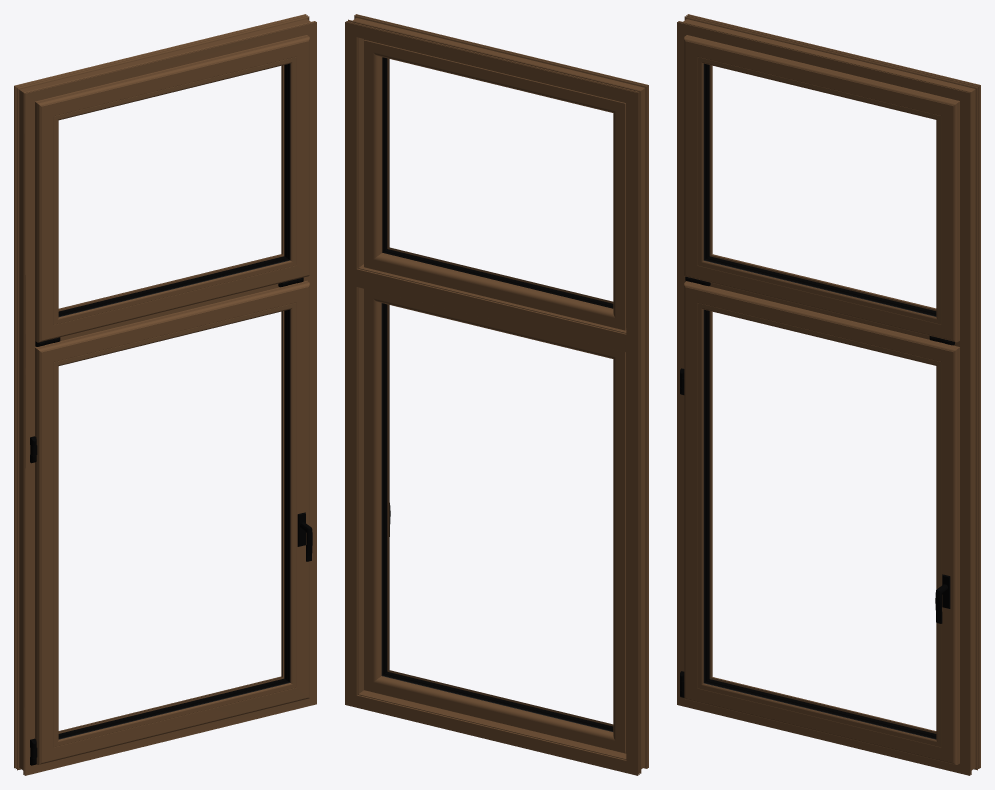
File: 厕所窗户.fbx
The picture shows the model from 3 angles, left to right: view 1: azimuth 30°, elevation 25°; view 2: azimuth 150°, elevation 25°; view 3: azimuth 330°, elevation 25°; orthographic projection.
Parts seen in each view (by area): view 1: Rectangle05; view 2: Rectangle05; view 3: Rectangle05.
Part boxes in pixels (x1,y1,x2,y2): Rectangle05: [14, 14, 316, 775]; Rectangle05: [345, 14, 648, 775]; Rectangle05: [677, 14, 980, 775].
Bounding box in the file's own units: 975 × 2174 × 138.
